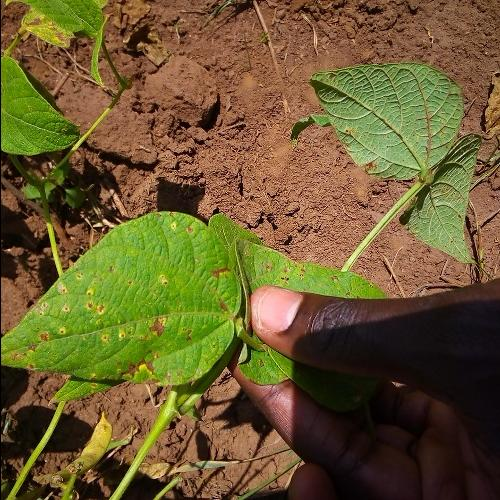hawar: (7, 210, 209, 382)
